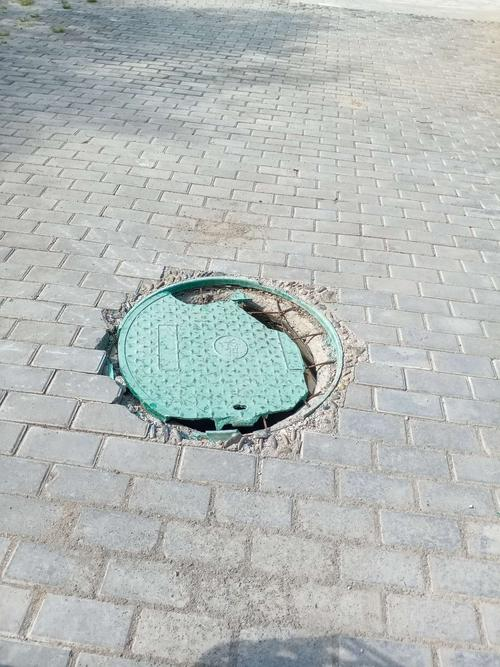broke: (89, 272, 367, 448)
